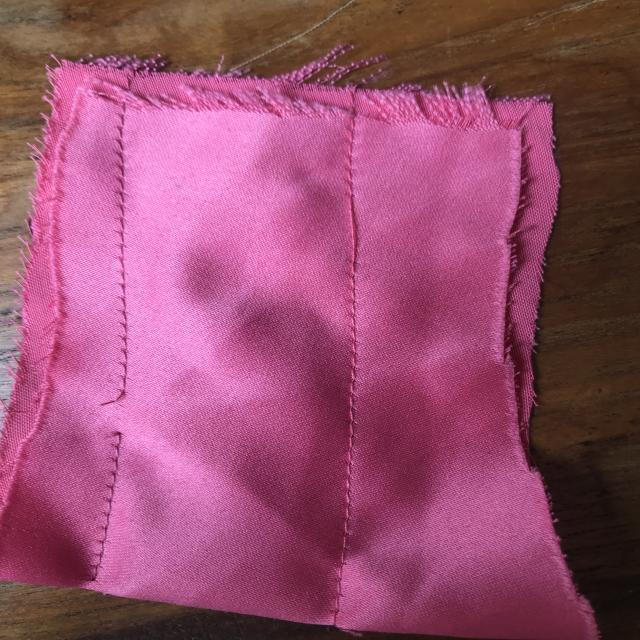broken: (92, 364, 151, 464)
good: (331, 374, 372, 471)
skip: (320, 183, 370, 290)
